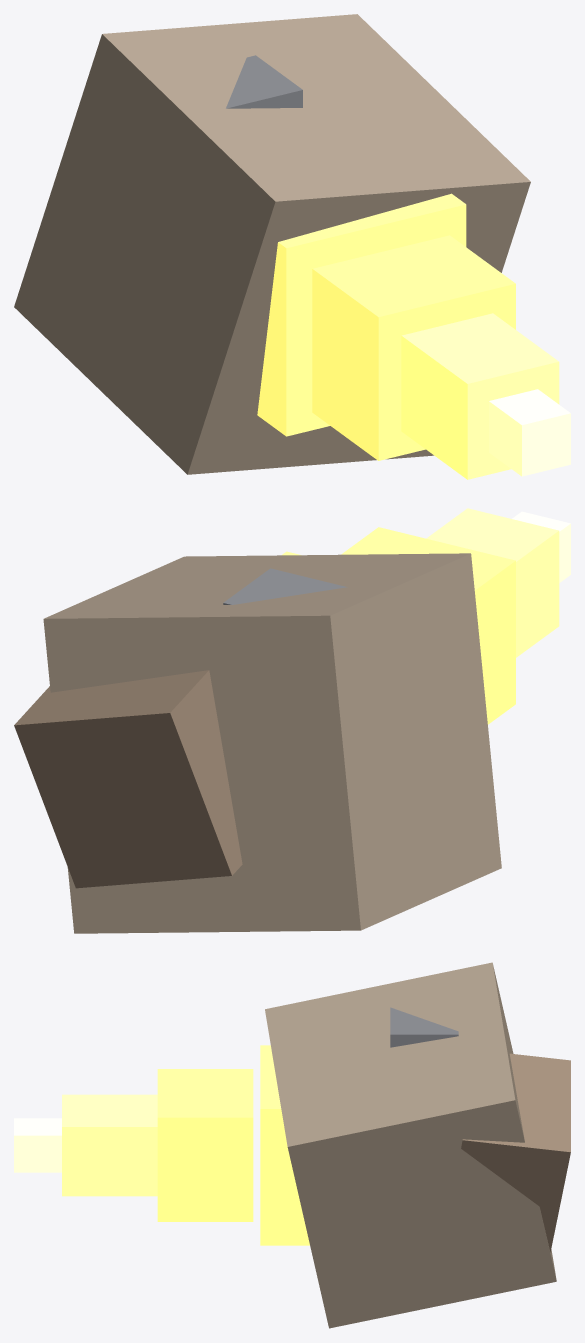
File: meteor.glb
3 views of the same model, one above another, from view 1: azimuth 30°, elevation 25°; view 2: azimuth 150°, elevation 25°; view 3: azimuth 270°, elevation 25° (orthographic). The views are drawn at different scales.
Parts seen in each view (by area): view 1: Rock, F1, F2, Glow, F3, Crater; view 2: Rock, Rock2, F1, F2, Crater, F3; view 3: Rock, F1, F2, Rock2, Glow, F3, Crater.
Boxes of the visible parts, box(x1,y1,x2,y2) form: Rock: box(14, 14, 530, 474); F1: box(312, 235, 515, 460); F2: box(401, 313, 559, 479); Glow: box(257, 193, 466, 436); F3: box(489, 389, 570, 476); Crater: box(226, 55, 302, 108); Rock: box(43, 553, 501, 933); Rock2: box(14, 670, 242, 888); F1: box(341, 527, 515, 724); F2: box(426, 508, 559, 657); Crater: box(223, 568, 347, 604); F3: box(512, 511, 570, 582); Rock: box(265, 962, 556, 1328); F1: box(157, 1069, 253, 1221); F2: box(62, 1094, 157, 1196); Rock2: box(461, 1053, 570, 1252); Glow: box(260, 1045, 309, 1245); F3: box(14, 1118, 61, 1172); Crater: box(390, 1007, 458, 1047).
Bounding box in the file's own units: 1.06 × 1.15 × 2.04.
